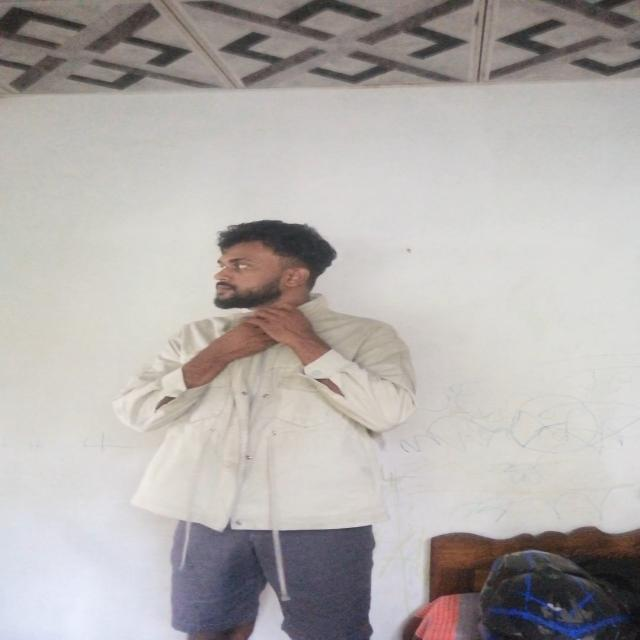Jacket_Wearer: (129, 304, 449, 553)
Person: (122, 218, 434, 640)
